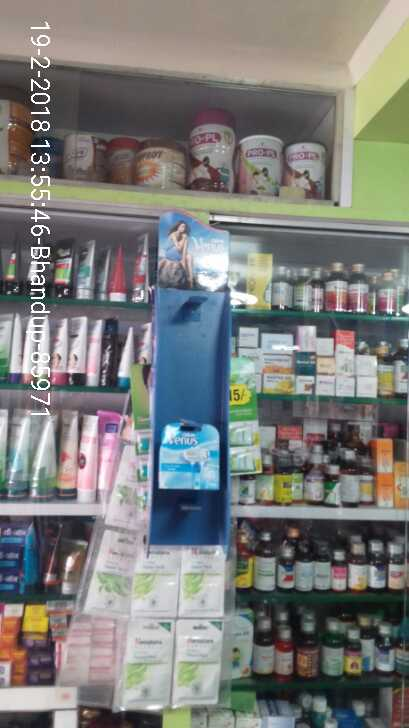venus: (153, 421, 222, 491)
